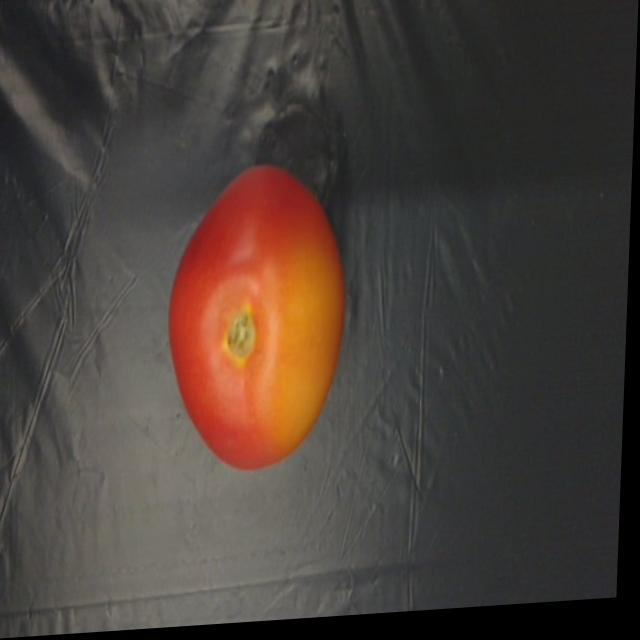sari: (147, 135, 361, 492)
